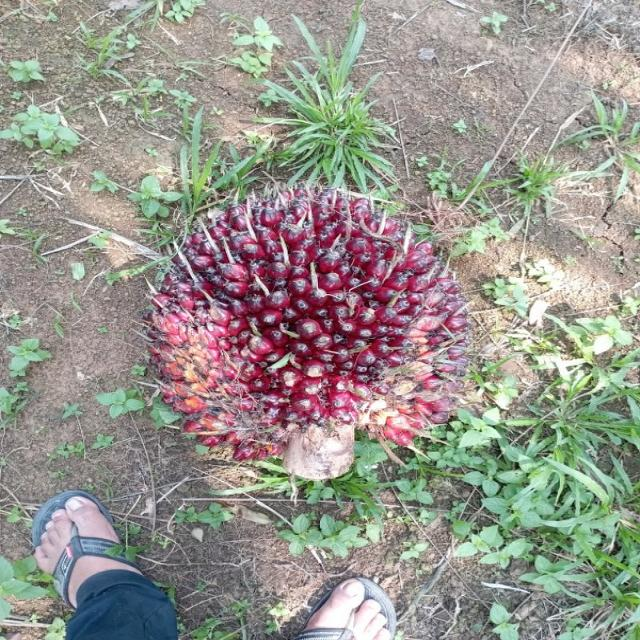fraksi 1: (148, 172, 474, 464)
